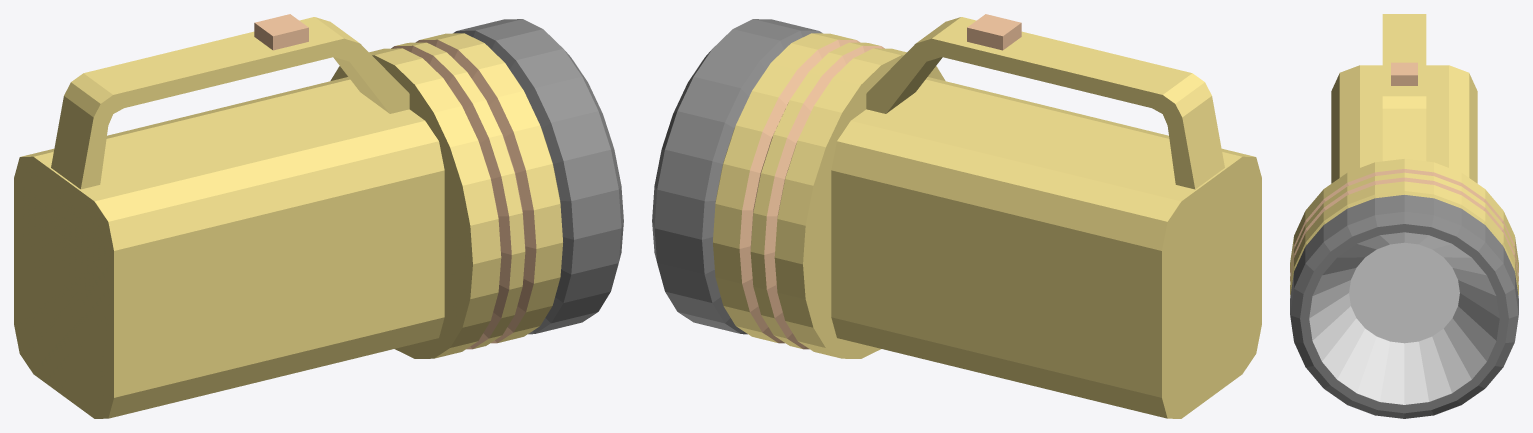
File: Flashlight 1.fbx
The picture shows the model from 3 angles, left to right: view 1: azimuth 30°, elevation 25°; view 2: azimuth 150°, elevation 25°; view 3: azimuth 270°, elevation 25°; orthographic projection. The views are drawn at different scales.
Visible parts, largest first — view 1: Flashlight 1; view 2: Flashlight 1; view 3: Flashlight 1.
Boxes of the visible parts, x1,y1,x2,y2 form: Flashlight 1: (14, 14, 623, 418); Flashlight 1: (652, 14, 1261, 418); Flashlight 1: (1290, 14, 1518, 418).
Size of the model in its own units: 0.1961 by 0.1349 by 0.1089.
